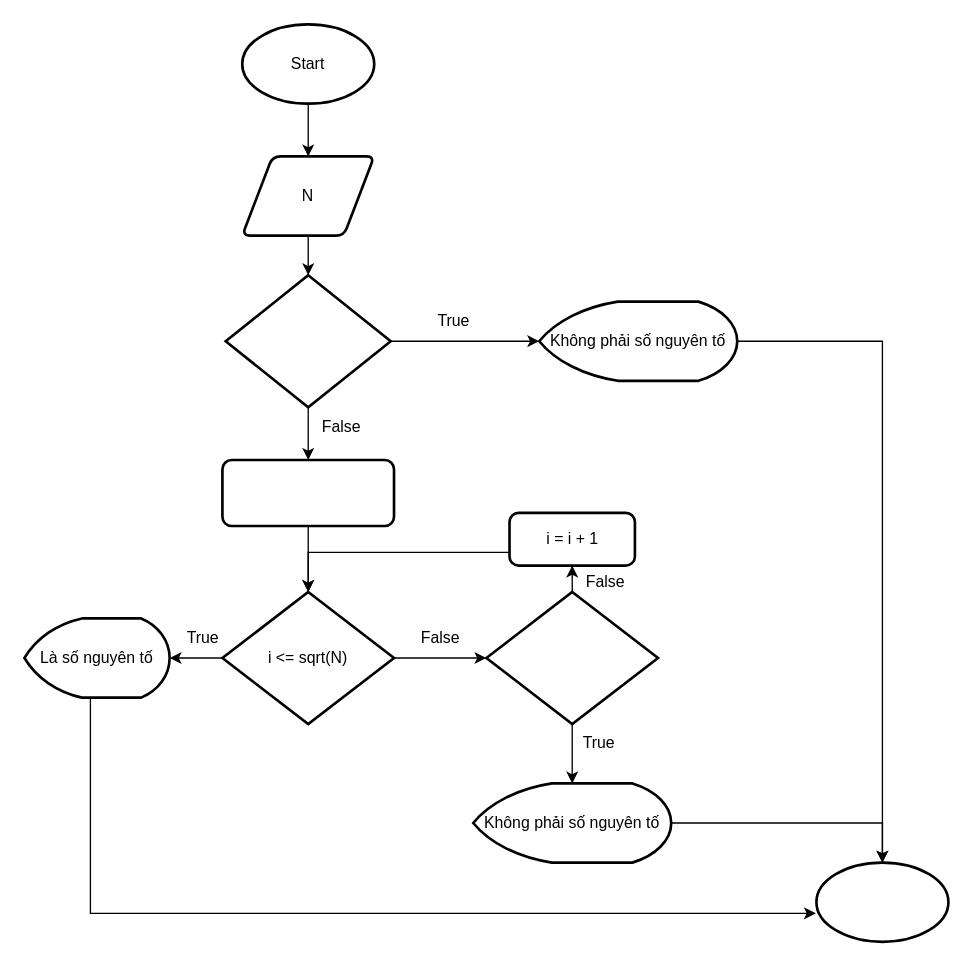
Some shapes in this 972 by 965 pixel diagram are drawn without their labels. Here are the shapes that lost their labels. From the top down, the centre of each, then its label:
At (x=307, y=340): "N < 2".
At (x=307, y=492): "i = 2".
At (x=571, y=657): "N mod i = 0".
At (x=881, y=901): "End.".
